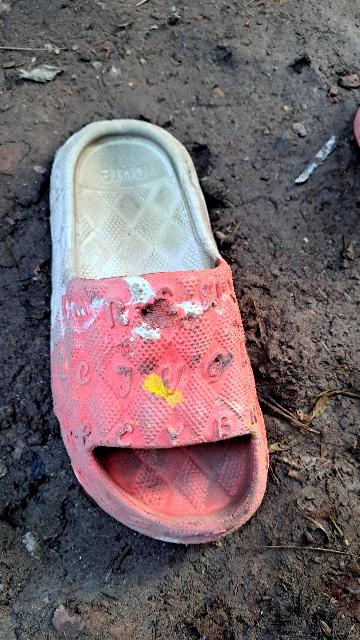sandal: (28, 118, 277, 544)
